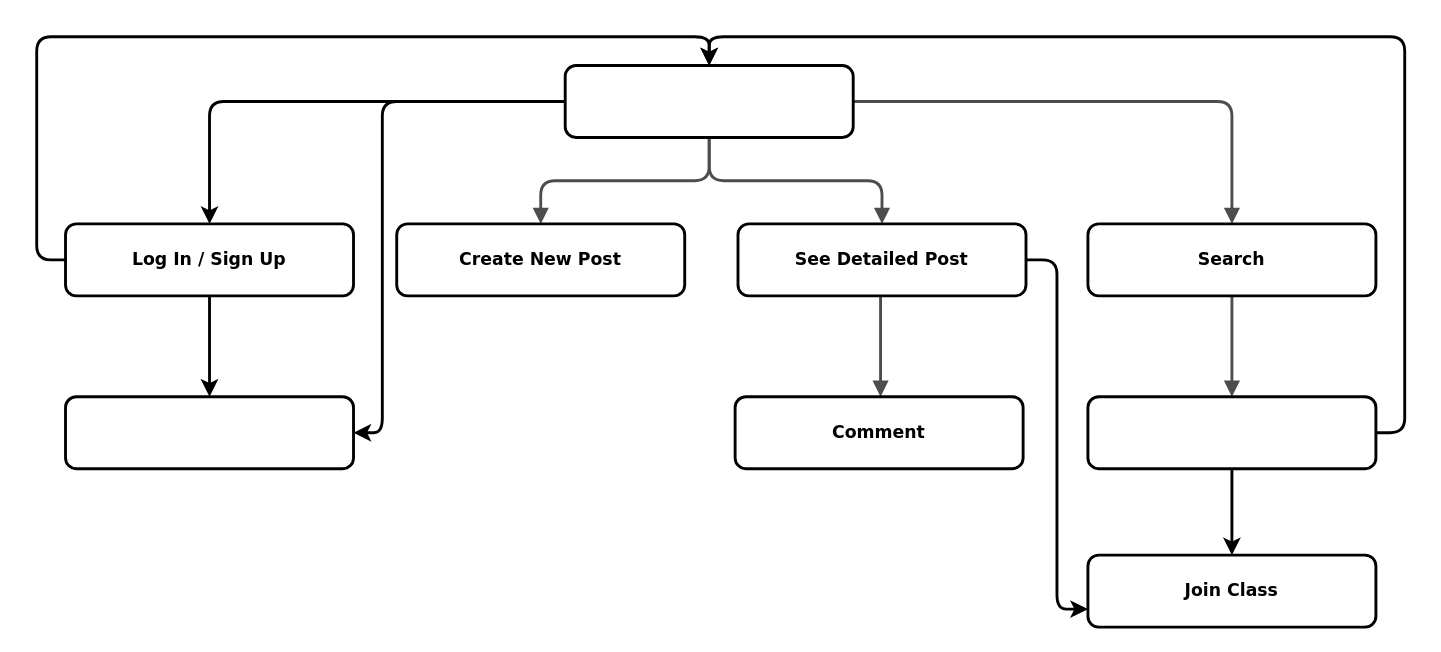
This 1441x652 diagram has some shape labels left out. The shapes that lost their labels are listed below. From the top down, each one's box as (x1, y1, x2, y2) in pixels, then its label:
(563, 63, 854, 138): Home Page: View Posts
(63, 395, 354, 469): Account
(1086, 395, 1377, 469): Search Result
